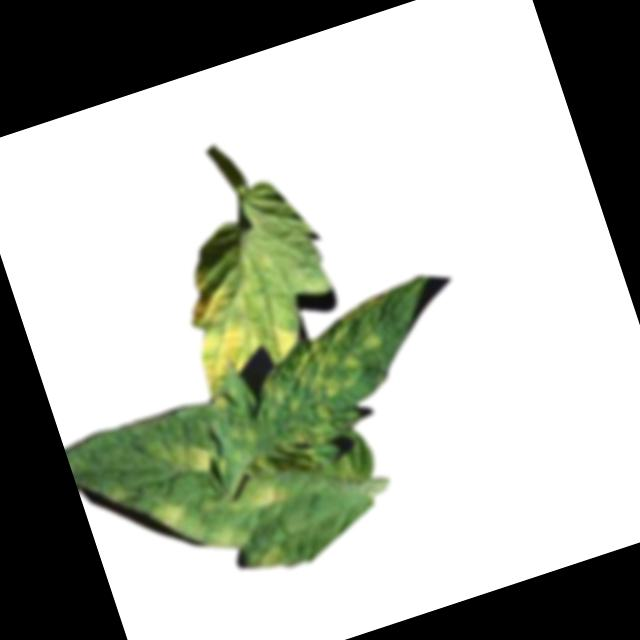Leaf_Mold: (236, 293, 418, 456), (166, 249, 308, 396), (152, 426, 219, 490), (149, 490, 205, 551), (233, 473, 291, 518), (242, 534, 293, 579), (208, 390, 230, 409)
